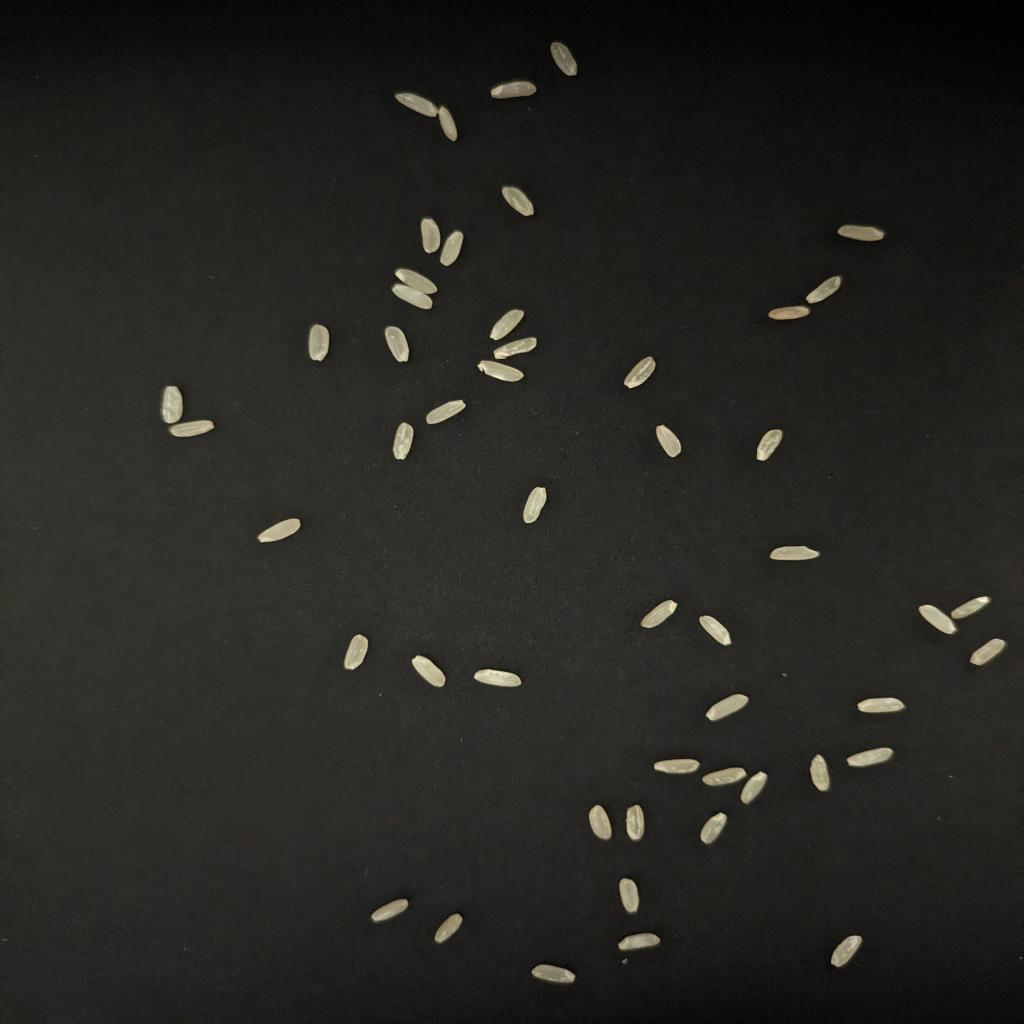good-rice: (706, 694, 748, 722), (410, 656, 445, 688), (394, 268, 437, 294), (919, 604, 956, 634), (394, 92, 439, 116), (477, 360, 525, 382), (490, 310, 525, 340), (392, 284, 432, 310), (970, 638, 1007, 666), (258, 518, 301, 542), (623, 356, 655, 388), (831, 936, 863, 968), (501, 186, 535, 216), (698, 616, 732, 646), (493, 338, 538, 360), (807, 276, 842, 304), (642, 600, 677, 628), (426, 400, 466, 424), (951, 596, 991, 620), (474, 668, 522, 688), (384, 326, 410, 362), (551, 42, 578, 76), (160, 386, 184, 424), (370, 898, 408, 922), (490, 80, 535, 100), (847, 748, 892, 768), (434, 914, 463, 944), (439, 230, 463, 266), (655, 426, 682, 458), (522, 488, 546, 524), (344, 634, 368, 670), (740, 772, 767, 804), (589, 804, 613, 840), (618, 932, 661, 952), (533, 964, 575, 984), (701, 812, 727, 844), (839, 224, 884, 242), (756, 430, 783, 460), (168, 420, 213, 438), (392, 422, 413, 460), (810, 754, 831, 792), (703, 768, 746, 786), (858, 698, 906, 714), (653, 758, 701, 774), (421, 218, 442, 254), (309, 324, 330, 360), (618, 878, 639, 914), (770, 546, 820, 560), (439, 106, 458, 142), (626, 804, 645, 840), (767, 306, 810, 320)
